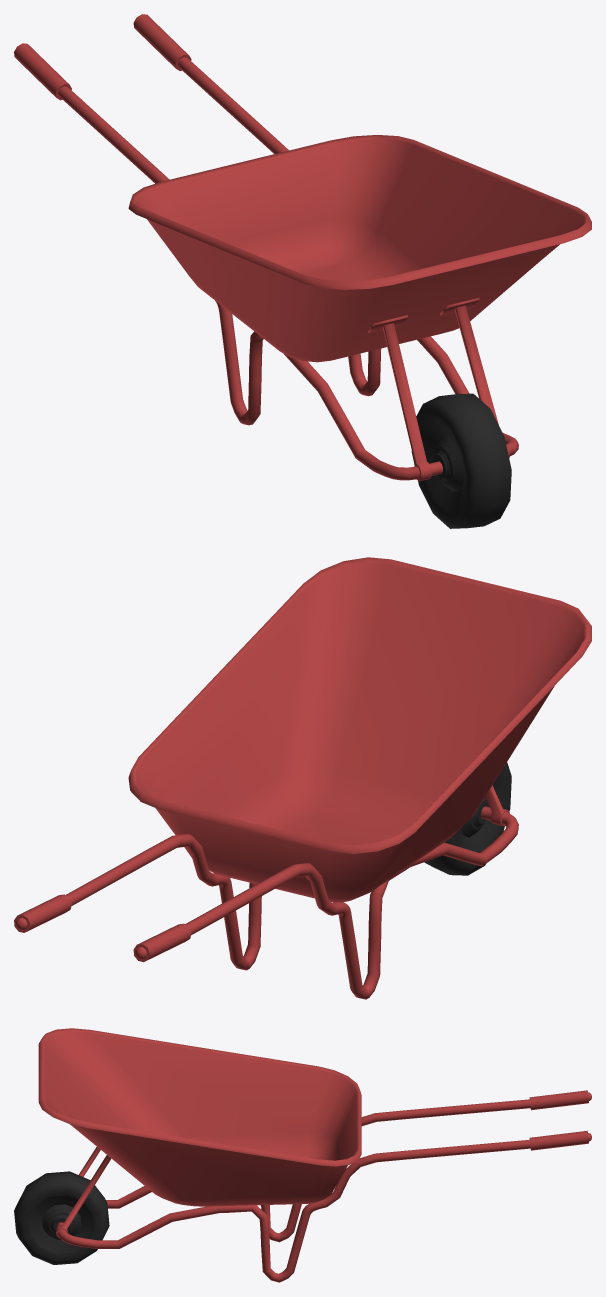
The model's file is wheelbarrow.fbx.
3 renders of one model, top to bottom at view 1: azimuth 30°, elevation 25°; view 2: azimuth 150°, elevation 25°; view 3: azimuth 270°, elevation 25°, orthographic. The views are drawn at different scales.
Parts seen in each view (by area): view 1: Cylinder.004; view 2: Cylinder.004; view 3: Cylinder.004.
Part boxes in pixels (bbox=[...]): Cylinder.004: bbox=[14, 14, 591, 528]; Cylinder.004: bbox=[14, 557, 591, 999]; Cylinder.004: bbox=[14, 1028, 591, 1282].
Bounding box in the file's own units: 97.59 × 93.18 × 253.
